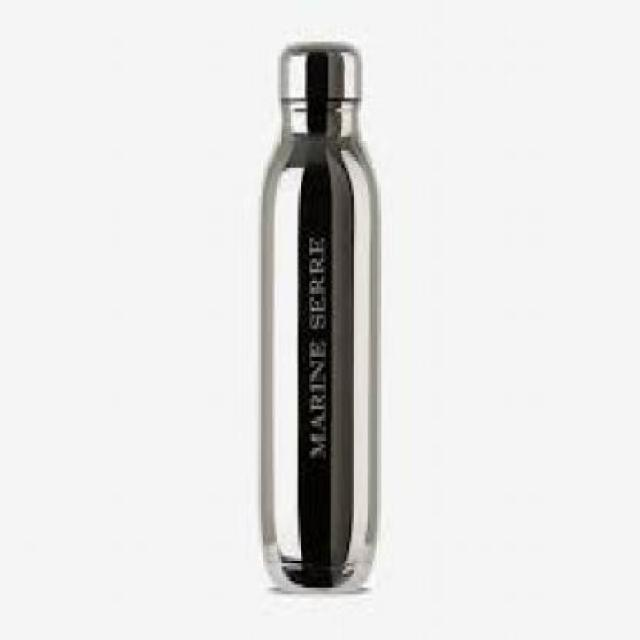Drinking: (252, 39, 374, 598)
